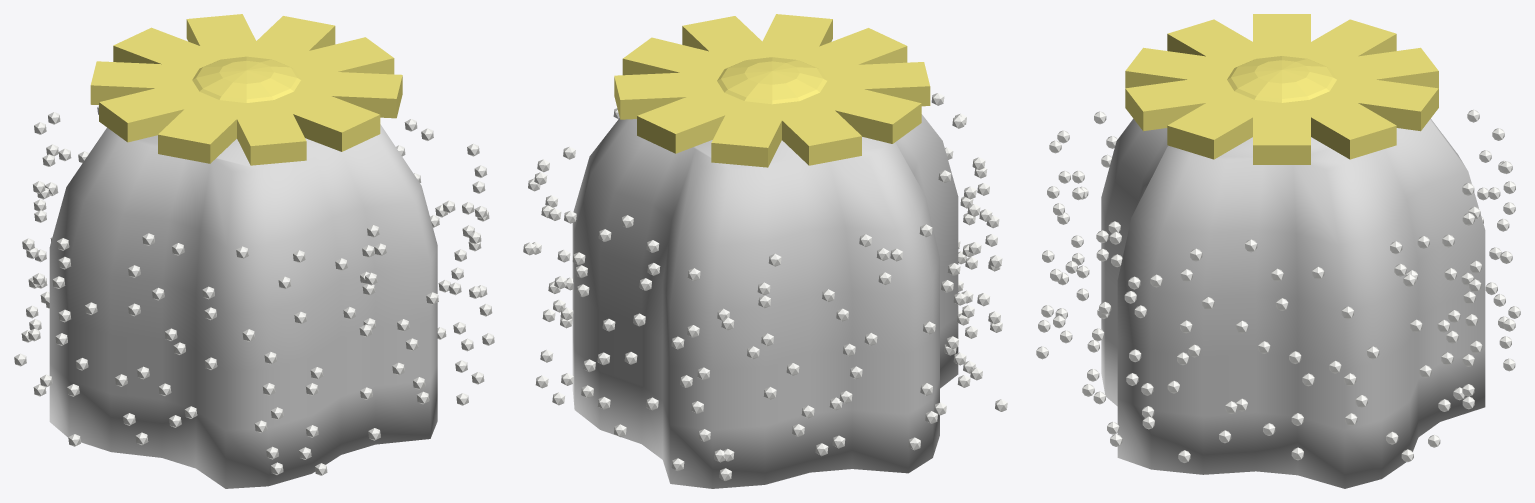
The picture shows the model from 3 angles, left to right: view 1: azimuth 30°, elevation 25°; view 2: azimuth 150°, elevation 25°; view 3: azimuth 270°, elevation 25°; orthographic projection.
Visible parts, largest first — view 1: BishopsCapCactus; view 2: BishopsCapCactus; view 3: BishopsCapCactus.
Boxes of the visible parts, x1,y1,x2,y2 form: BishopsCapCactus: [14, 14, 494, 488]; BishopsCapCactus: [523, 14, 1007, 488]; BishopsCapCactus: [1036, 14, 1520, 488].
Size of what is drawn, in the model's own units: 1.32 by 1.03 by 1.34.
